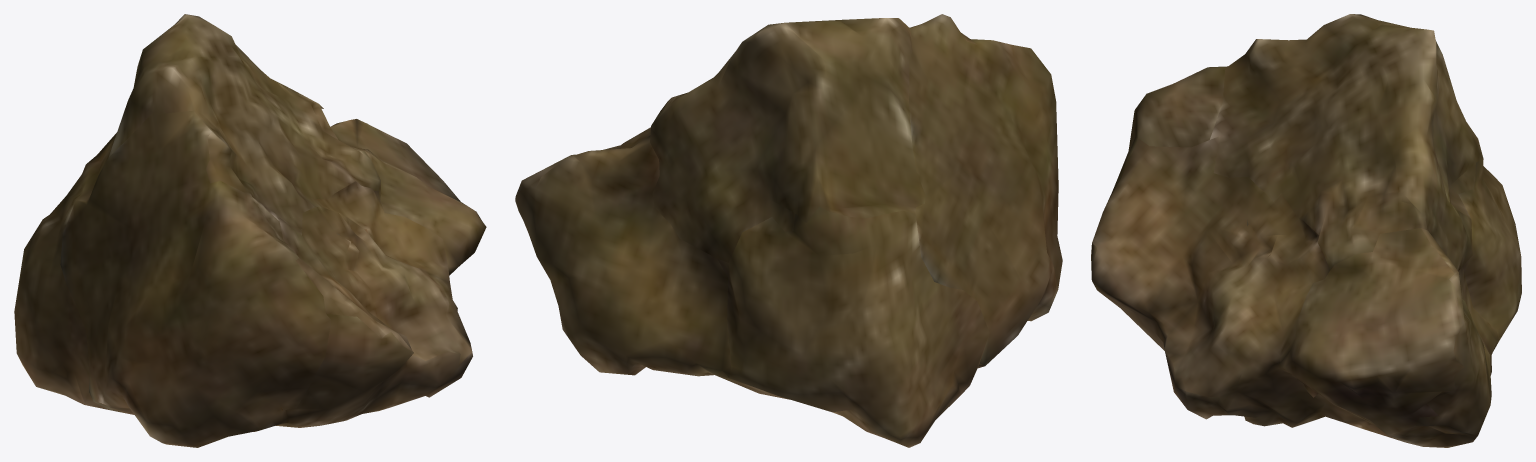
File: rock_moss_set_01_3.glb
3 views of the same model, side by side, from view 1: azimuth 30°, elevation 25°; view 2: azimuth 150°, elevation 25°; view 3: azimuth 270°, elevation 25° (orthographic). The views are drawn at different scales.
Size of the model in its own units: 2.13 by 1.76 by 1.96.
Materials: 1 (1 with a texture image).
